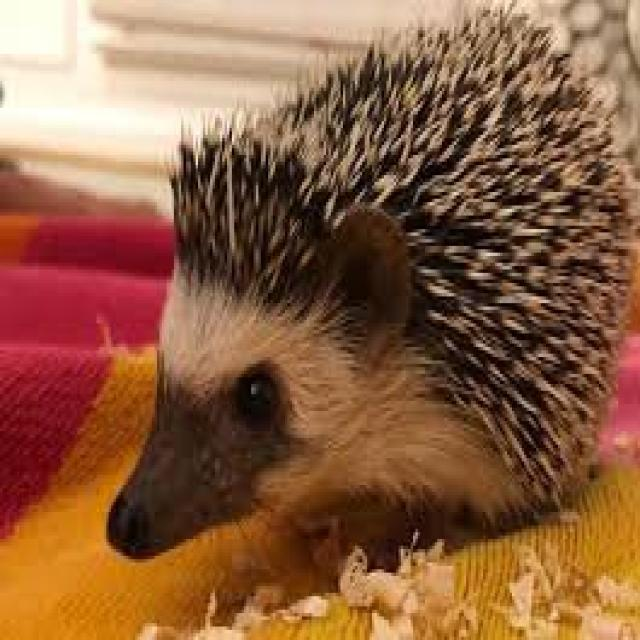Hedgehog: (101, 8, 627, 560)
